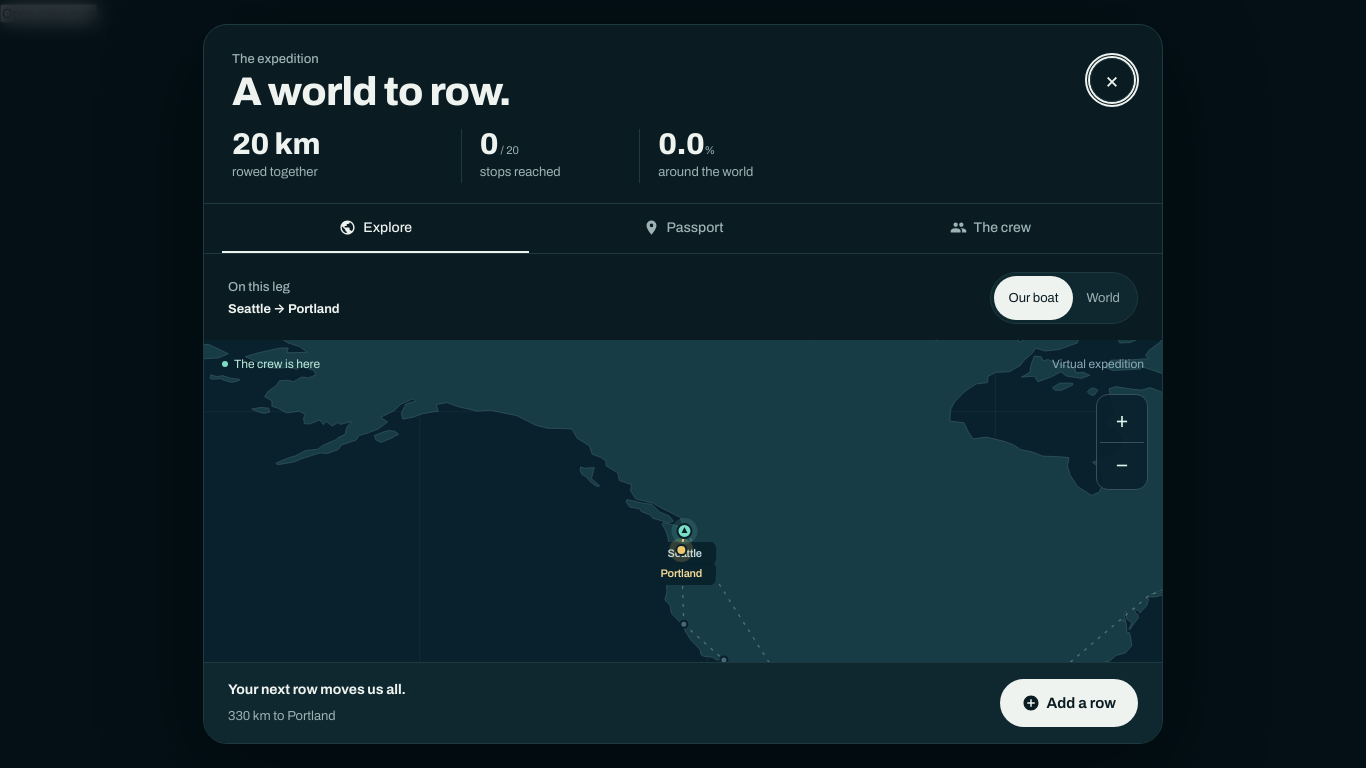
Test: map contributors, ranks and shares use global derived totals instead of stale stored counters
The width and height of the screenshot is (1366, 768).
Expected: the text "20 km" is shown, 232,128 -> 320,160
What coordinates should you click on to do the following:
click the button "The crew"
I would click on:
 (990, 228)
Its box is 837,204 -> 1144,253.
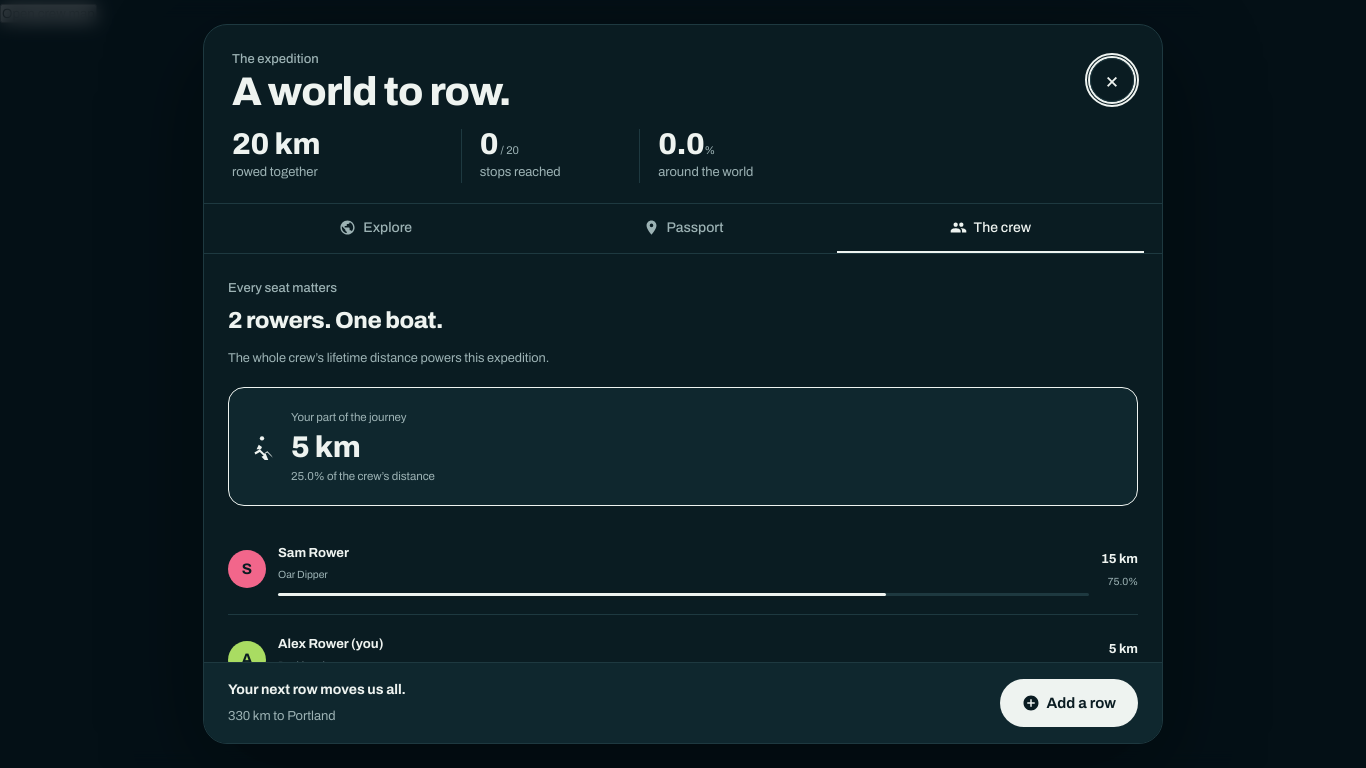
Now the element with class "exp-member" shows "Sam Rower", box 278,545 -> 349,560
Now the text "Oar Dipper" is shown, box 278,569 -> 328,580
Now the element with class "exp-own-share" shows "25.0% of the crew", box 228,387 -> 1138,506
